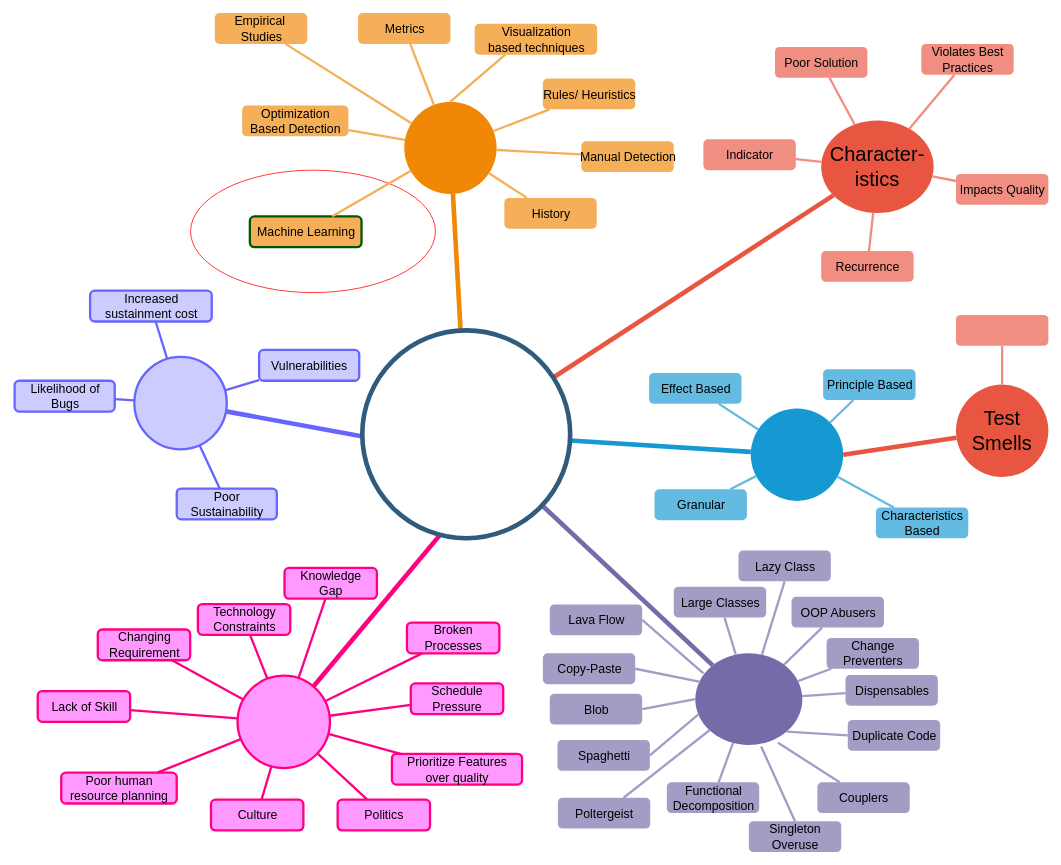
The diagram is 1061 pixels wide and 865 high, and some of its shapes have lost their labels. Here are the shapes that lost their labels. From the top down, the centre of each, then its label:
At (450,147): "Detection Methods".
At (1002,330): "Eager Test".
At (180,402): "Effects".
At (466,434): "Code Smells / Anti-Patterns".
At (796,454): "Types".
At (748,699): "Categor-ization".
At (283,721): "Causes".
